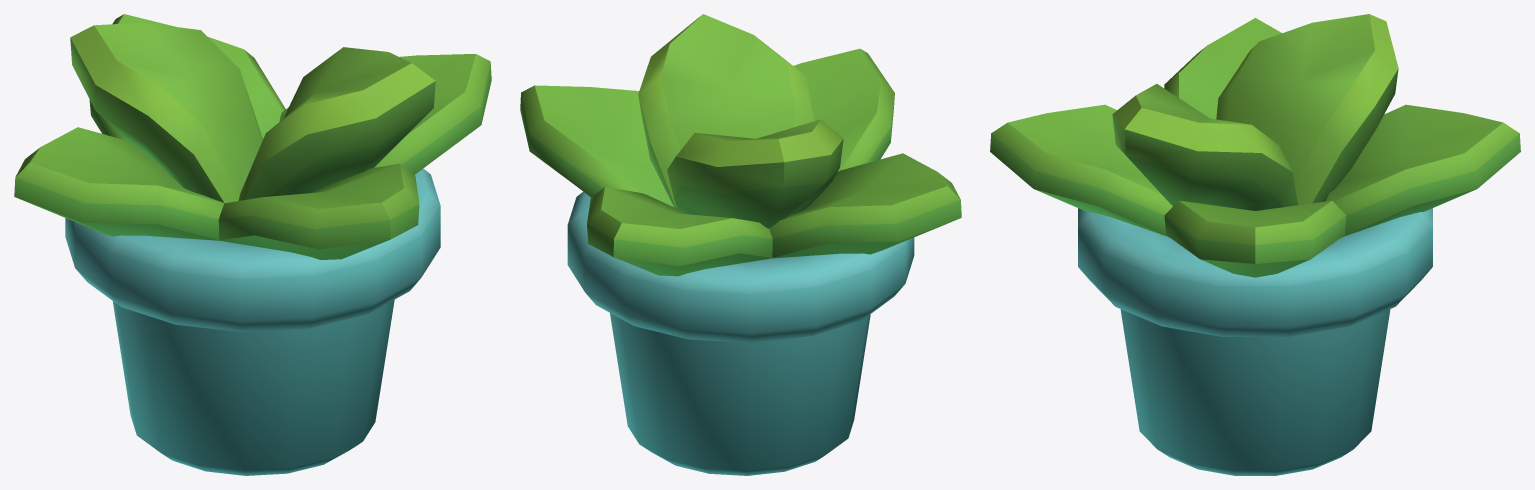
File: bath-plant.glb
3 views of the same model, side by side, from view 1: azimuth 30°, elevation 25°; view 2: azimuth 150°, elevation 25°; view 3: azimuth 270°, elevation 25° (orthographic). The views are drawn at different scales.
Visible parts, largest first — view 1: plant; view 2: plant; view 3: plant.
Boxes of the visible parts, box(x1,y1,x2,y2) form: plant: box(14, 14, 491, 475); plant: box(520, 14, 961, 475); plant: box(990, 14, 1520, 475).
Size of the model in its own units: 0.8225 by 0.6365 by 0.8225.
1 material, 1 textured.
